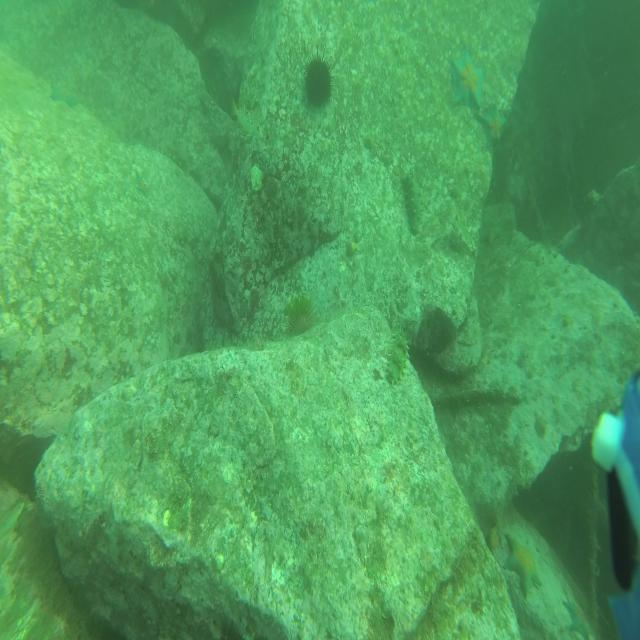echinus: (300, 47, 338, 118), (282, 296, 322, 342)
holothurian: (384, 319, 412, 390), (400, 165, 425, 240)
starfish: (501, 531, 542, 600), (451, 47, 486, 112), (478, 99, 509, 149), (561, 593, 593, 640), (48, 79, 81, 109)
